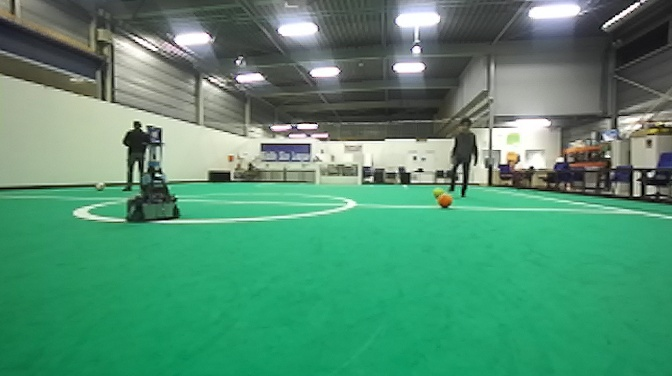ball: (435, 191, 454, 211), (430, 185, 446, 200), (92, 180, 107, 192)
goal: (314, 159, 365, 188)
goalpost: (354, 159, 364, 188), (314, 161, 323, 187)
human: (445, 115, 479, 200), (122, 117, 153, 194)
robot: (126, 137, 184, 225)
